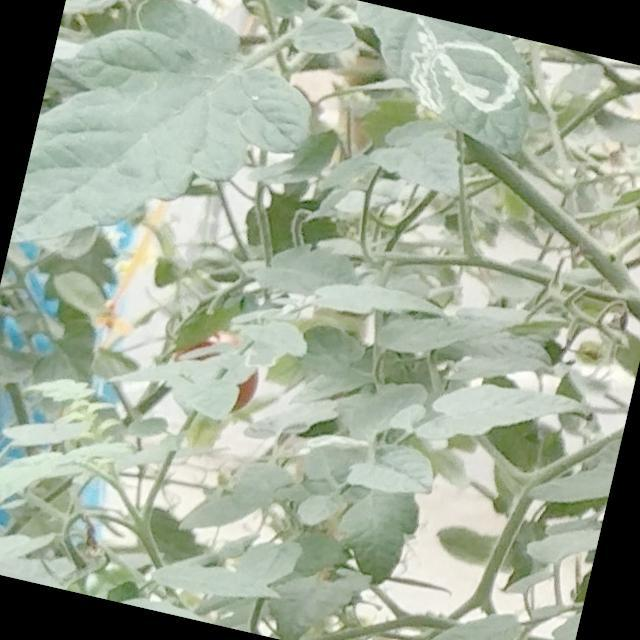Tomato healthy leaf: (9, 0, 338, 306)
Tomato target spot leaf: (327, 0, 554, 162)
